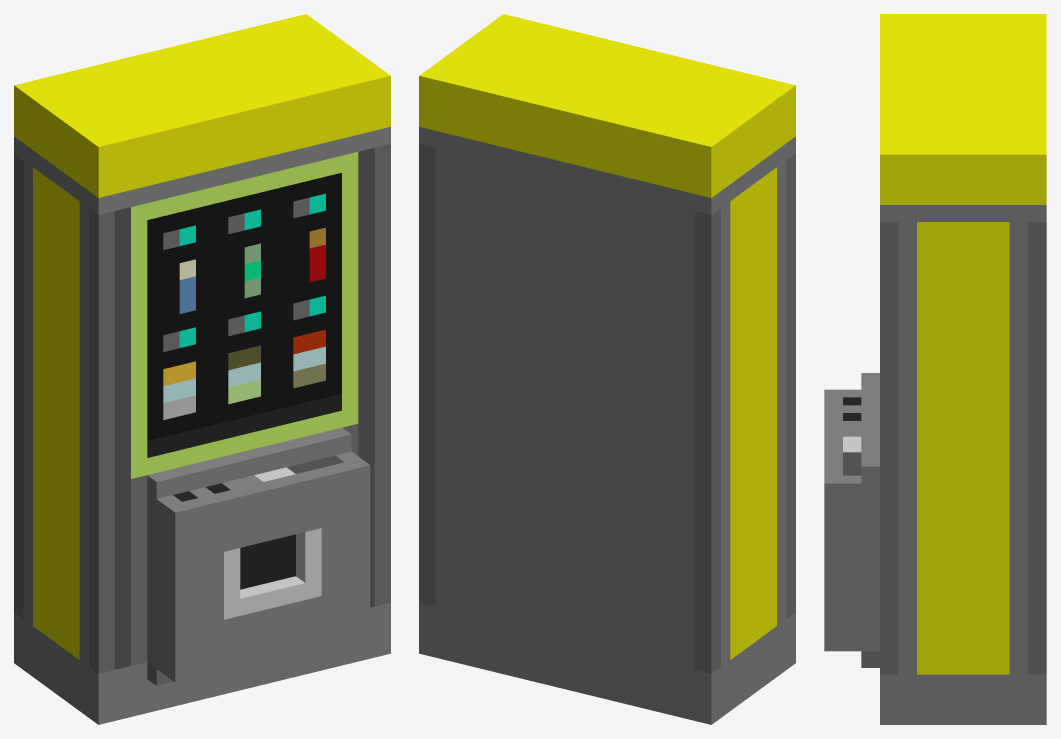
File: Vending Machine.obj
3 views of the same model, side by side, from view 1: azimuth 30°, elevation 25°; view 2: azimuth 150°, elevation 25°; view 3: azimuth 270°, elevation 25° (orthographic).
Size of the model in its own units: 18 by 34 by 12.
Materials: 1 (1 with a texture image).
